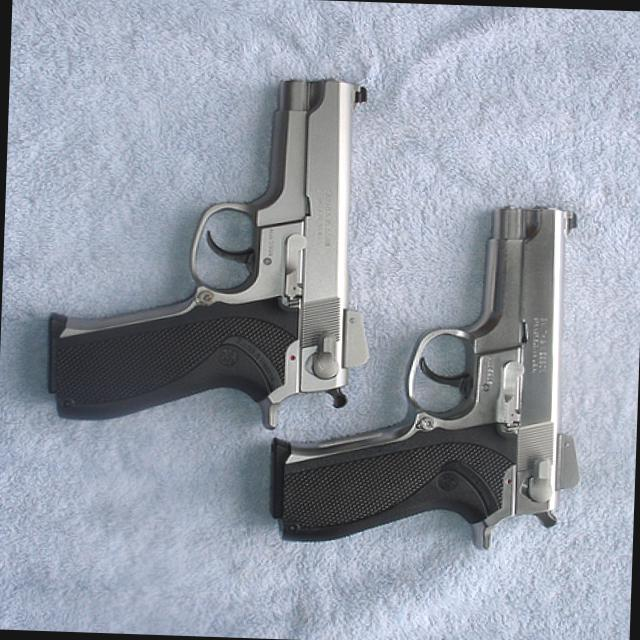handgun: (46, 66, 368, 437), (268, 190, 590, 560)
